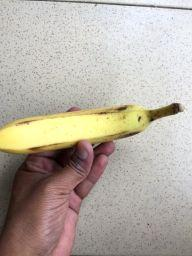banana: (0, 100, 187, 157)
